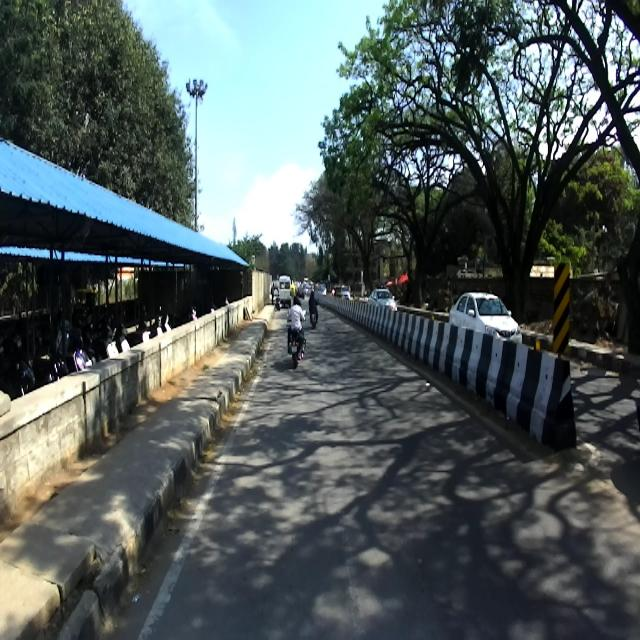car: (449, 292, 521, 342)
motorcycle: (0, 331, 34, 401), (285, 314, 306, 367)
